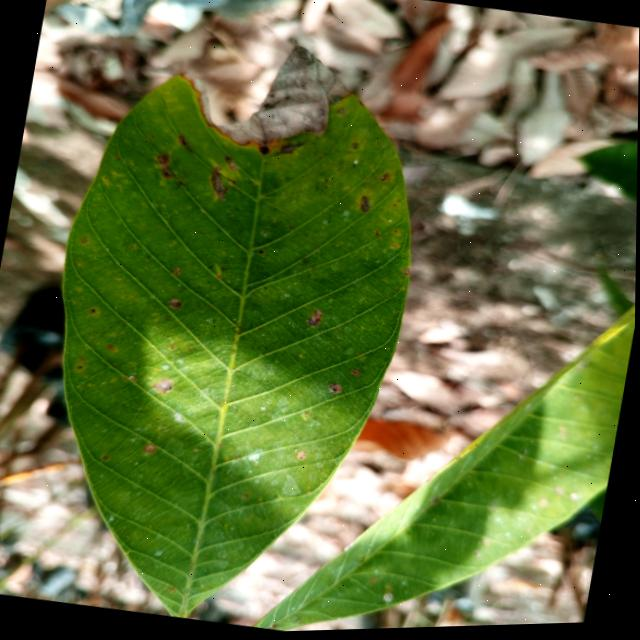Leaf-Blight: (214, 38, 360, 164)
